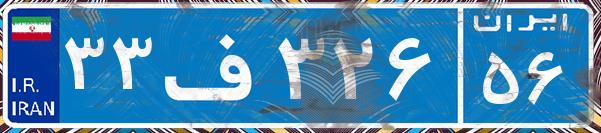2: (330, 28, 385, 110)
3: (273, 28, 330, 110), (57, 26, 110, 107), (110, 28, 158, 105)
5: (475, 38, 525, 113)
6: (385, 28, 445, 110), (525, 38, 570, 115)
ف: (158, 15, 273, 115)
